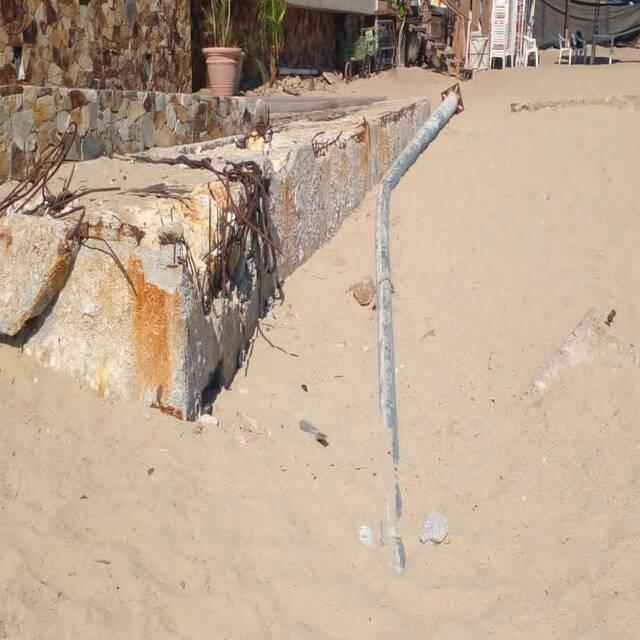Inclined Pole: (371, 76, 473, 581)
